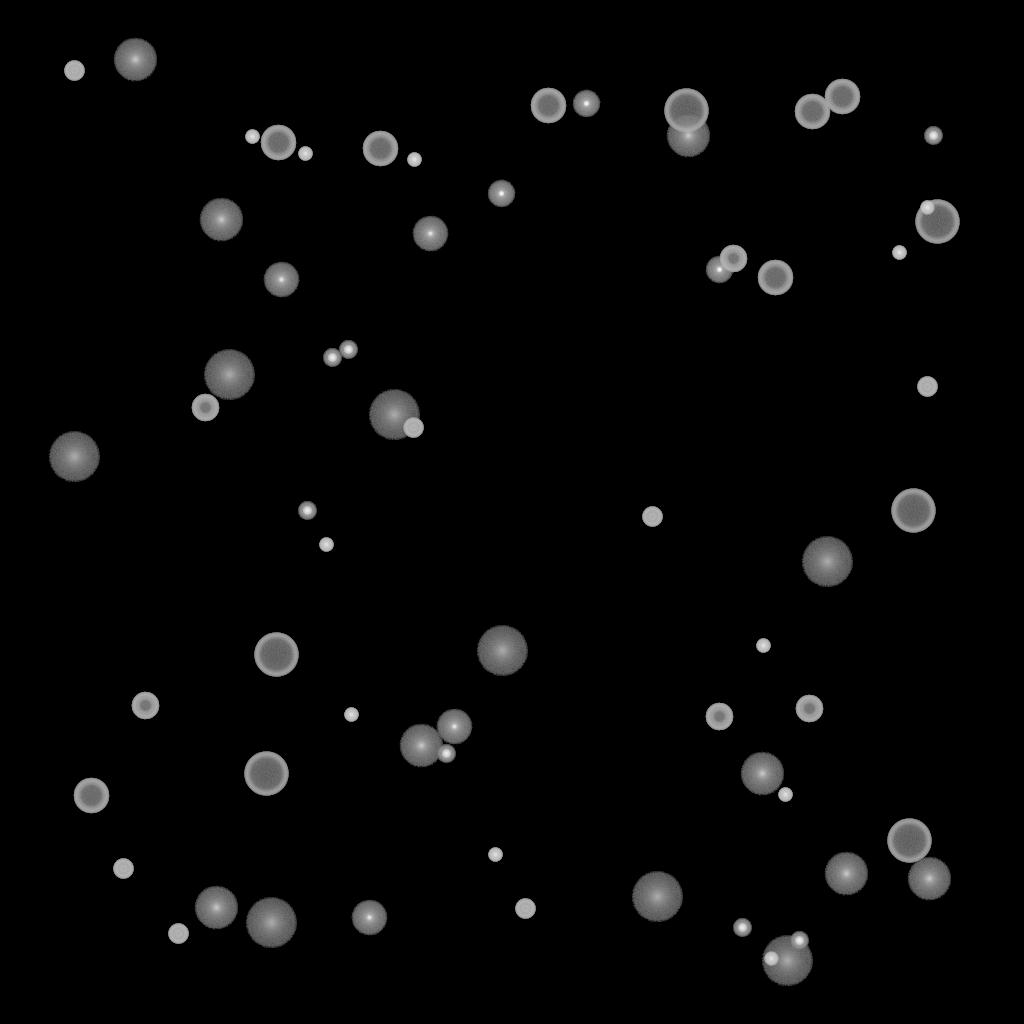depth:-10: (487, 180, 515, 208), (705, 256, 733, 284), (572, 90, 600, 118)
depth:-20: (437, 745, 455, 763), (924, 127, 942, 145), (298, 502, 316, 520), (339, 341, 357, 359), (790, 932, 808, 950), (733, 919, 751, 937), (323, 349, 341, 367)
depth:-30: (344, 708, 358, 722), (298, 147, 312, 161), (407, 153, 421, 167), (488, 848, 502, 862), (778, 788, 792, 802), (756, 639, 770, 653), (892, 246, 906, 260), (764, 952, 778, 966), (245, 130, 259, 144), (920, 201, 934, 215), (319, 538, 333, 552)
depth:-40: (113, 859, 133, 879), (403, 418, 423, 438), (917, 377, 937, 397), (64, 61, 84, 81), (168, 924, 188, 944), (515, 899, 535, 919), (642, 507, 662, 527)
depth:-50: (131, 692, 159, 720), (795, 695, 823, 723), (191, 394, 219, 422), (705, 703, 733, 731), (719, 245, 747, 273)
depth:-60: (260, 125, 296, 161), (824, 79, 860, 115), (362, 131, 398, 167), (794, 94, 830, 130), (757, 260, 793, 296), (530, 88, 566, 124), (73, 778, 109, 814)
depth:-70: (244, 752, 288, 796), (915, 200, 959, 244), (887, 819, 931, 863), (664, 89, 708, 133), (891, 489, 935, 533), (254, 633, 298, 677)
depth:0: (263, 262, 299, 298), (412, 216, 448, 252), (436, 709, 472, 745), (351, 900, 387, 936)
depth:10: (740, 752, 784, 796), (194, 886, 238, 930), (113, 38, 157, 82), (199, 198, 243, 242), (666, 114, 710, 158), (824, 852, 868, 896), (399, 724, 443, 768), (907, 857, 951, 901)
depth:20: (203, 350, 255, 400), (631, 872, 683, 922), (801, 537, 853, 587), (245, 898, 297, 948), (368, 390, 420, 440), (761, 936, 813, 986), (476, 626, 528, 676), (48, 432, 100, 482)
